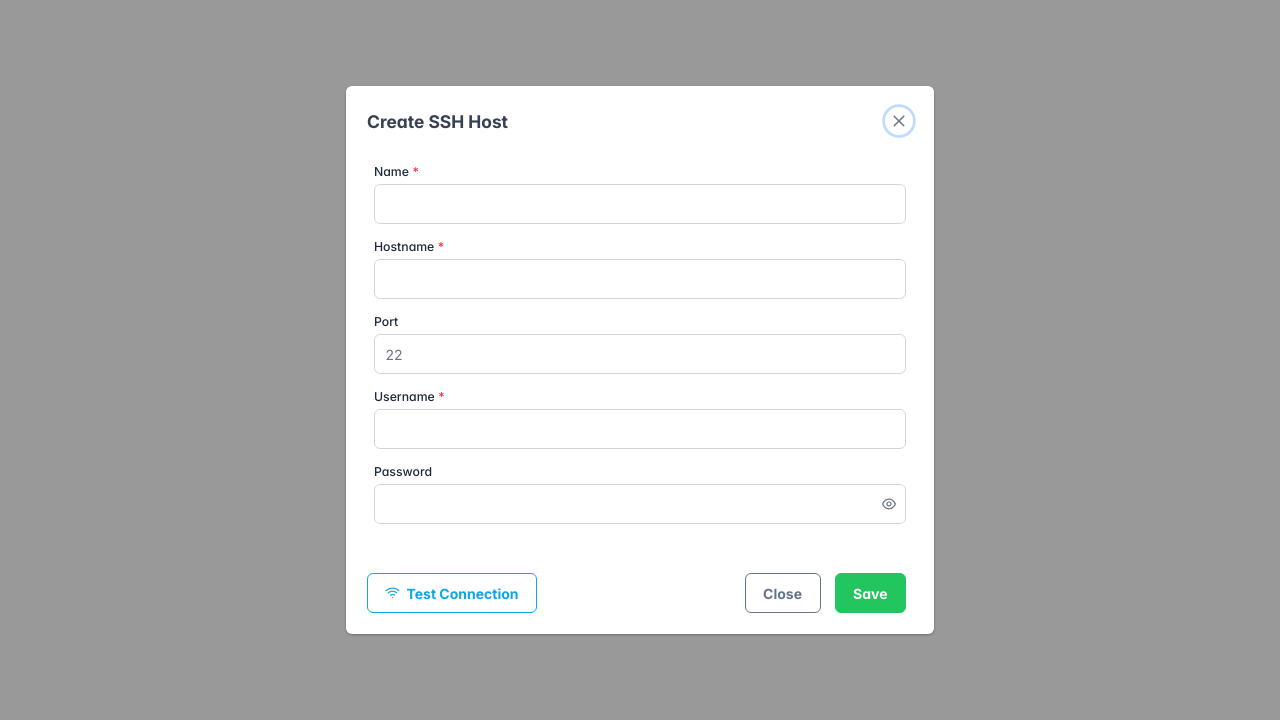
Test: SshHostModal — auto-test SSH connection on save › creating a new SSH host › shows warning when connection test throws an error
Type "Test Host" into the field labelled "Name*".
click(640, 204); type("Test Host")  # box [374,184,906,224]
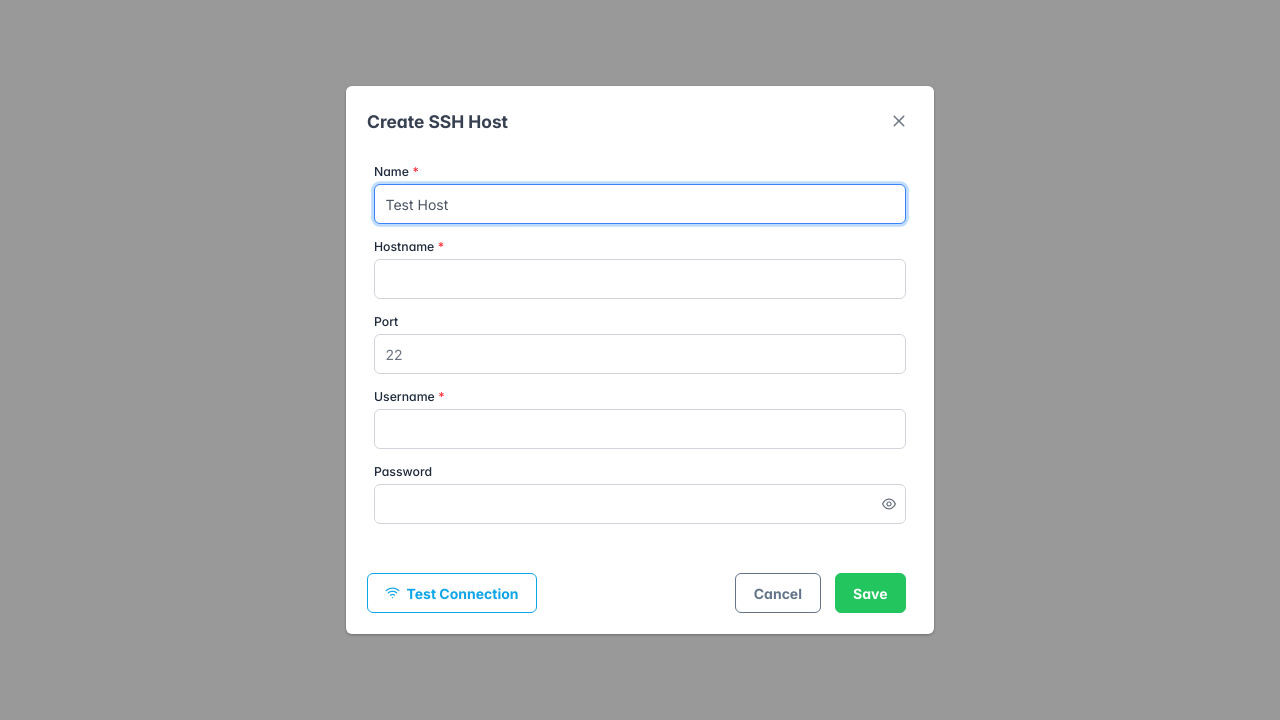
Type "example.com" into the field labelled "Hostname*".
click(640, 279); type("example.com")  # box [374,259,906,299]
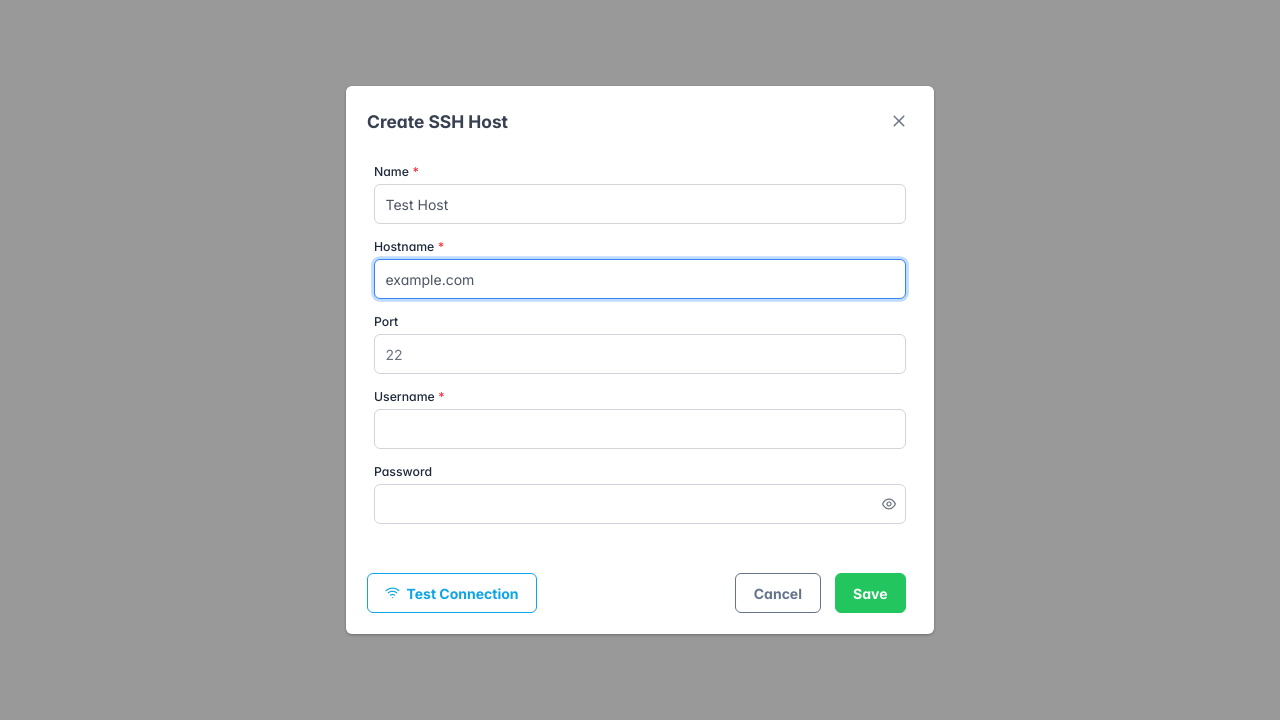
Type "testuser" into the field labelled "Username*".
click(640, 429); type("testuser")  # box [374,409,906,449]
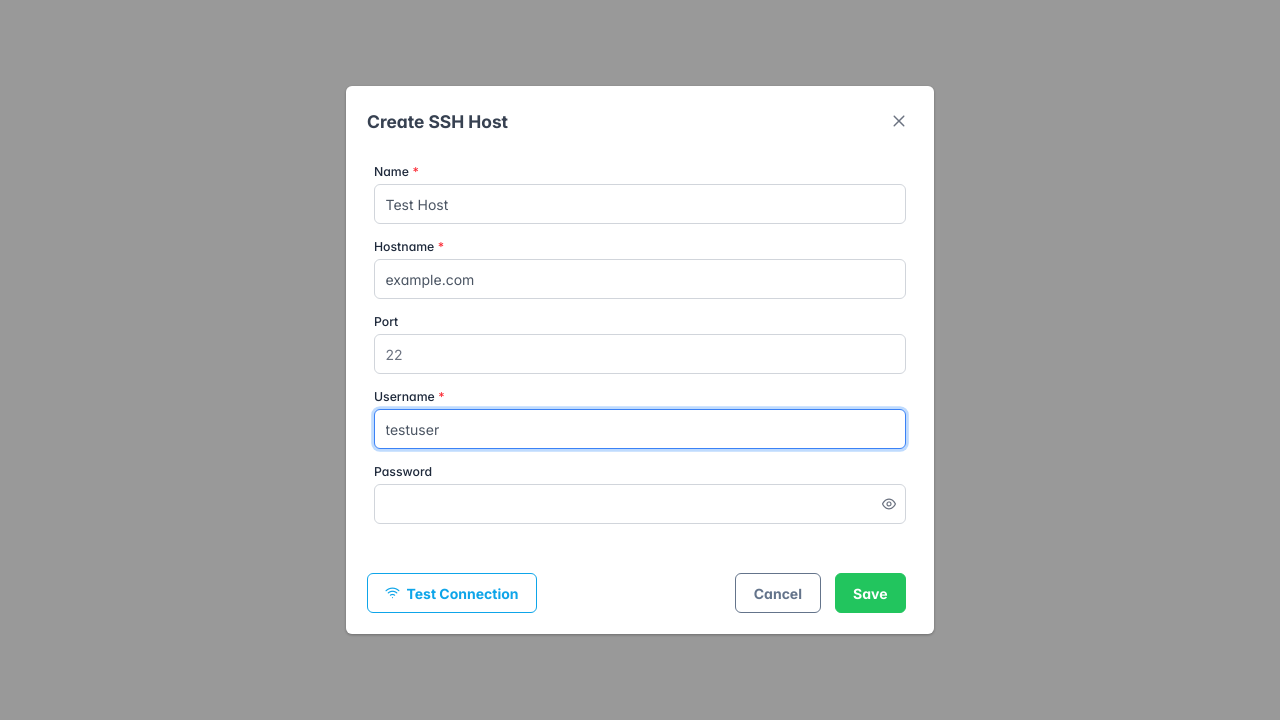
Click the button "Save".
click(870, 593)  # box [834,573,906,613]
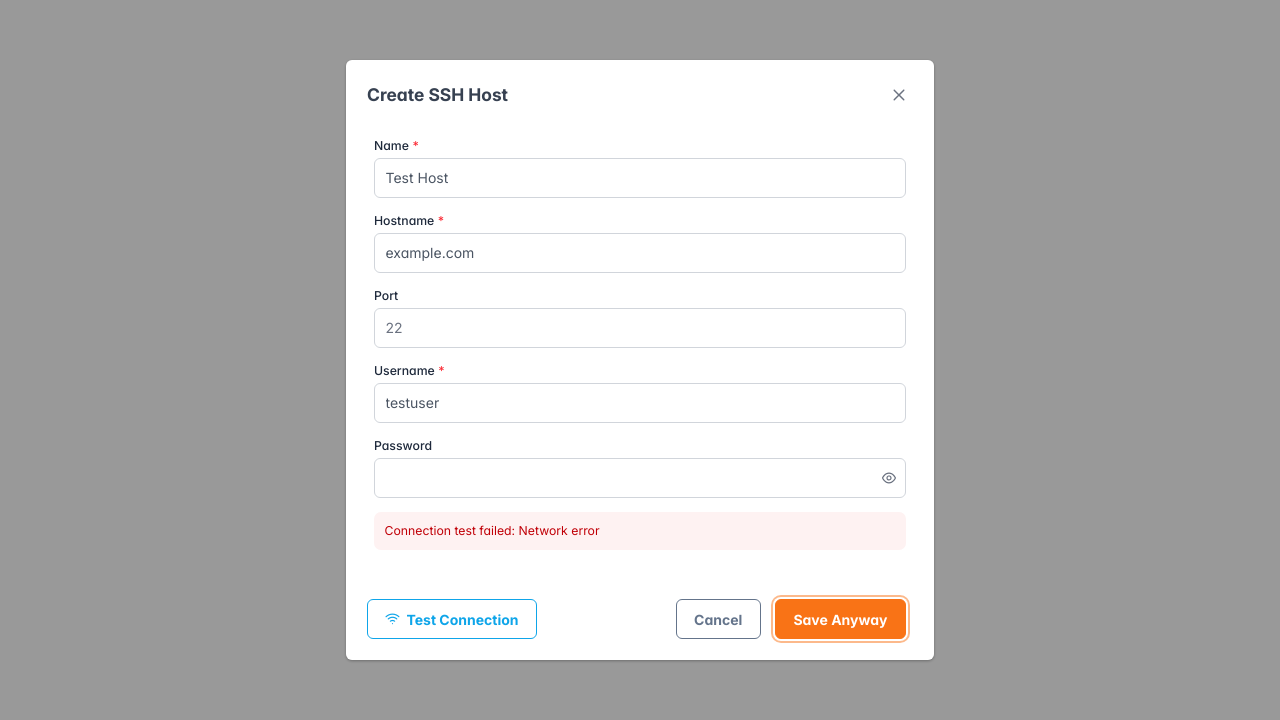
Now the text "Connection test failed: Network error" is shown, box [374,512,906,550]
